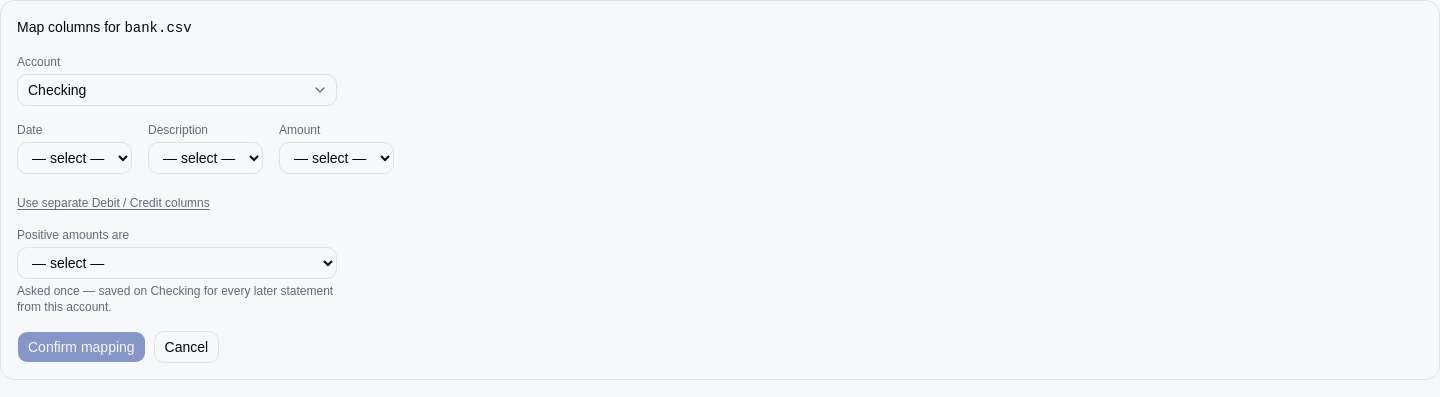
ColumnMapper › does not ask for the sign convention in Debit / Credit column mode
The width and height of the screenshot is (1440, 397).
Expected: the dropdown labelled "Positive amounts are" is shown, [17,247,337,279]
Click the button "Use separate Debit / Credit columns".
click(113, 203)  # box [17,195,210,211]
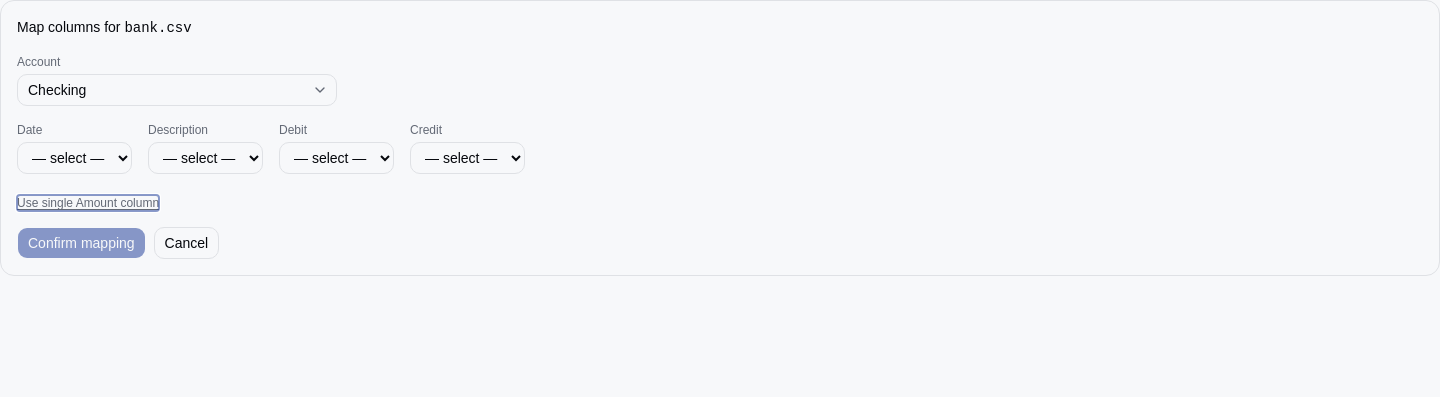
Now the label "Positive amounts are" is gone
